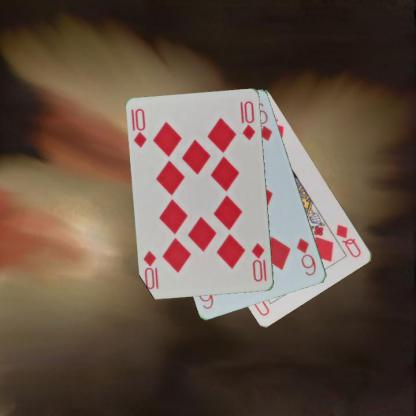10d: (249, 240, 268, 283), (131, 106, 149, 149)
6d: (294, 236, 318, 277)
Qd: (333, 222, 363, 260)
